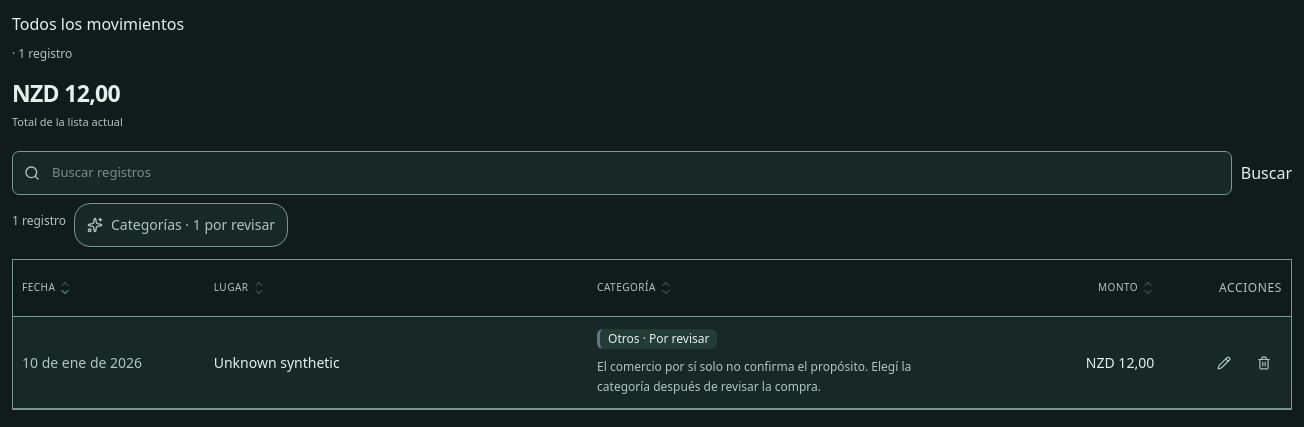
Test: renders accessible queue-empty and unknown guidance in es
Click the button "Categorías · 1 por revisar" at (181, 225), box [74, 203, 288, 247]
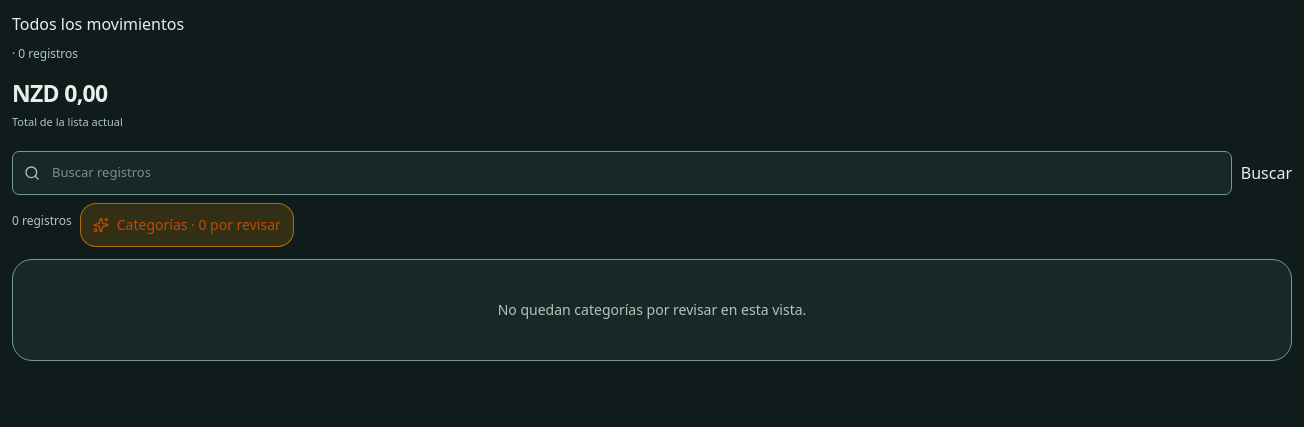
expect the text "No quedan categorías por revisar en esta vista." is shown: met, box [498, 300, 806, 319]
